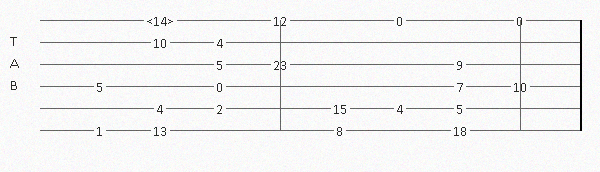0: (216, 80, 227, 93), (396, 14, 407, 27), (516, 14, 527, 27)
1: (96, 124, 107, 137)
10: (153, 36, 171, 49), (513, 80, 531, 93)
12: (273, 14, 291, 27)
13: (153, 124, 171, 137)
15: (333, 102, 351, 115)
18: (453, 124, 471, 137)
2: (216, 102, 227, 115)
23: (273, 58, 291, 71)
4: (156, 102, 167, 115), (216, 36, 227, 49), (396, 102, 407, 115)
5: (96, 80, 107, 93), (216, 58, 227, 71), (456, 102, 467, 115)
7: (456, 80, 467, 93)
8: (336, 124, 347, 137)
9: (456, 58, 467, 71)
harmonic: (146, 14, 178, 27)
